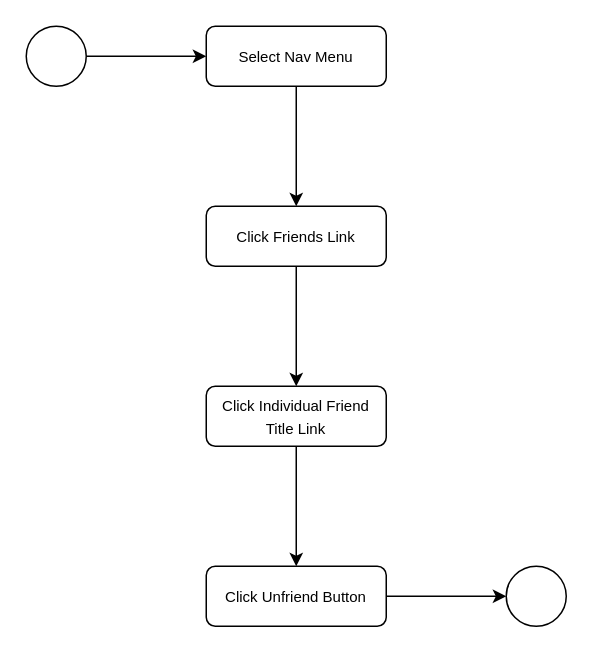
Some shapes in this 593 by 653 pixel diagram are drawn without their labels. The box of each missing label's shape, as (x1, y1, x2, y2) in pixels:
Finish: (505, 565, 566, 626)
Start: (25, 25, 86, 86)
